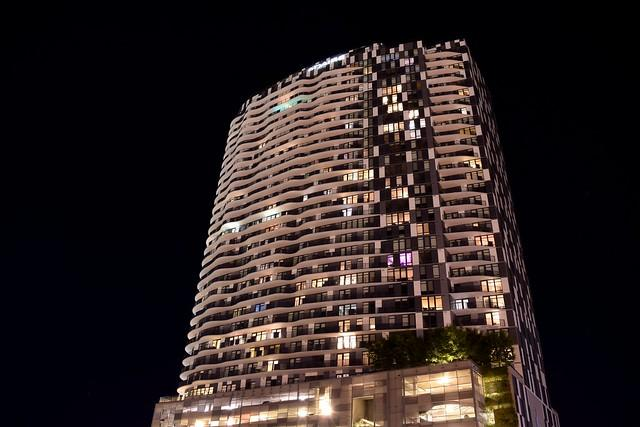building: (142, 31, 566, 427)
